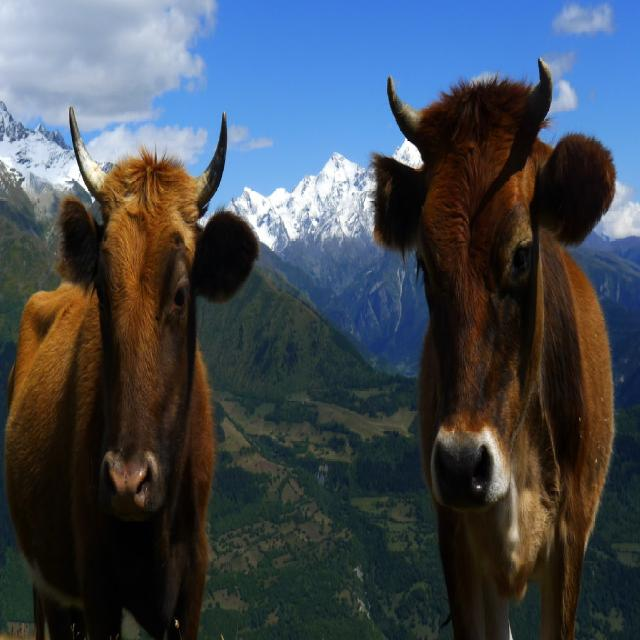Cattle: (364, 54, 620, 636), (4, 111, 258, 639)
